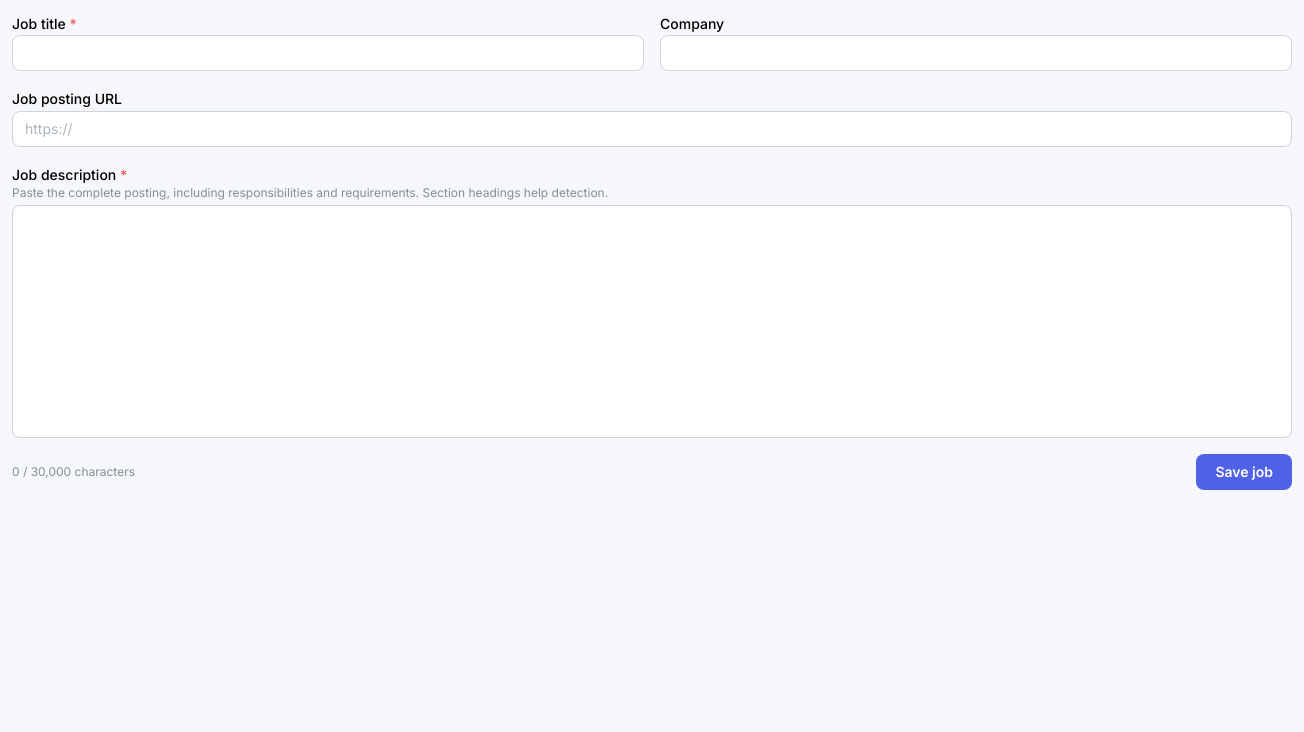
Test: JobForm › rejects a too-short description and invalid URL
The image size is (1304, 732).
Type "Engineer" into the field labelled "Job title *". click: x=328, y=53
box: [12, 35, 644, 71]
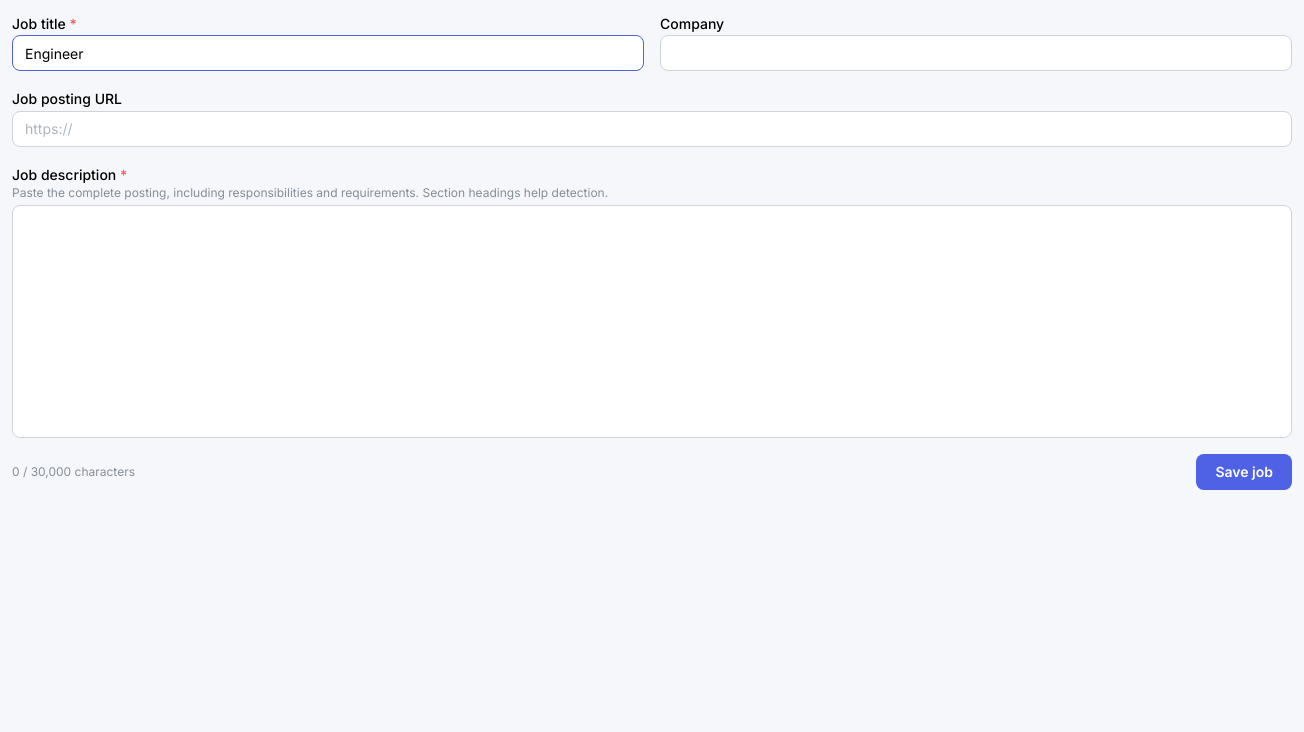
Type "example" into the field labelled "Job posting URL". click: x=652, y=128
box: [12, 110, 1292, 146]
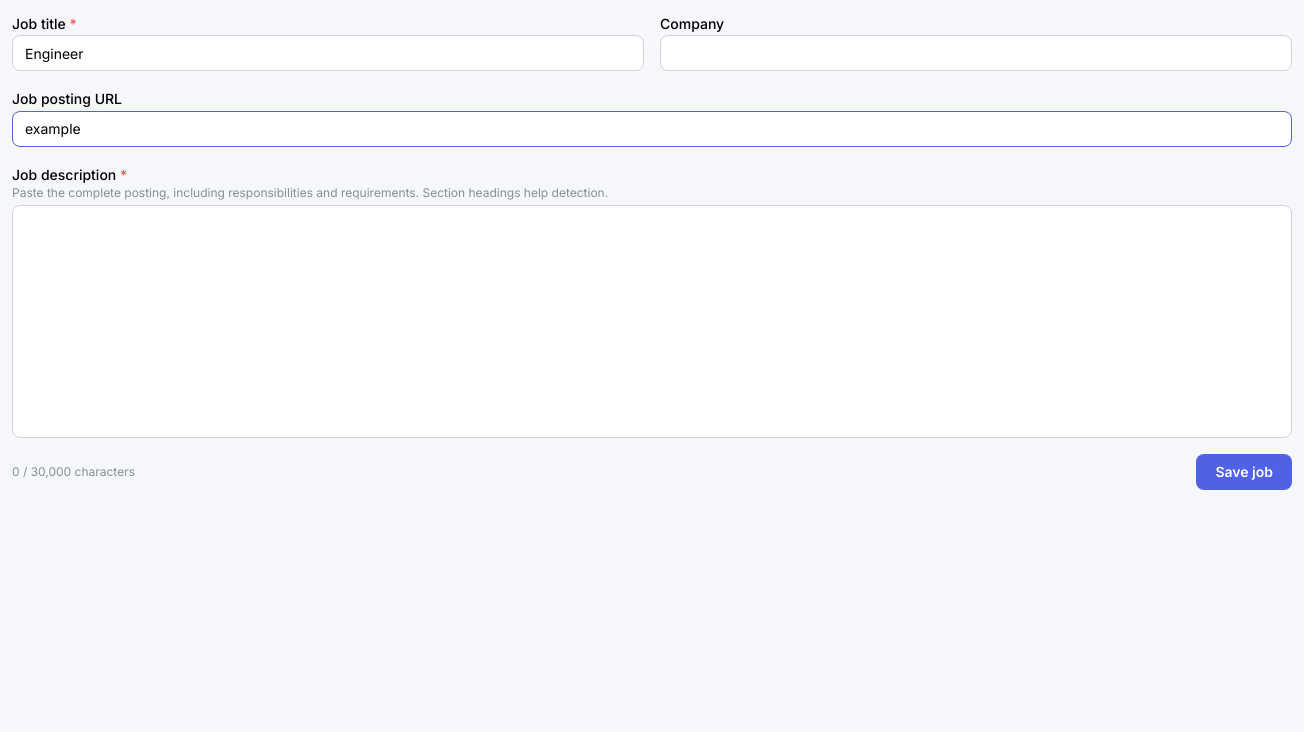
Type "Too short" into the text box labelled "Job description *". click: x=652, y=322
box: [12, 205, 1292, 438]
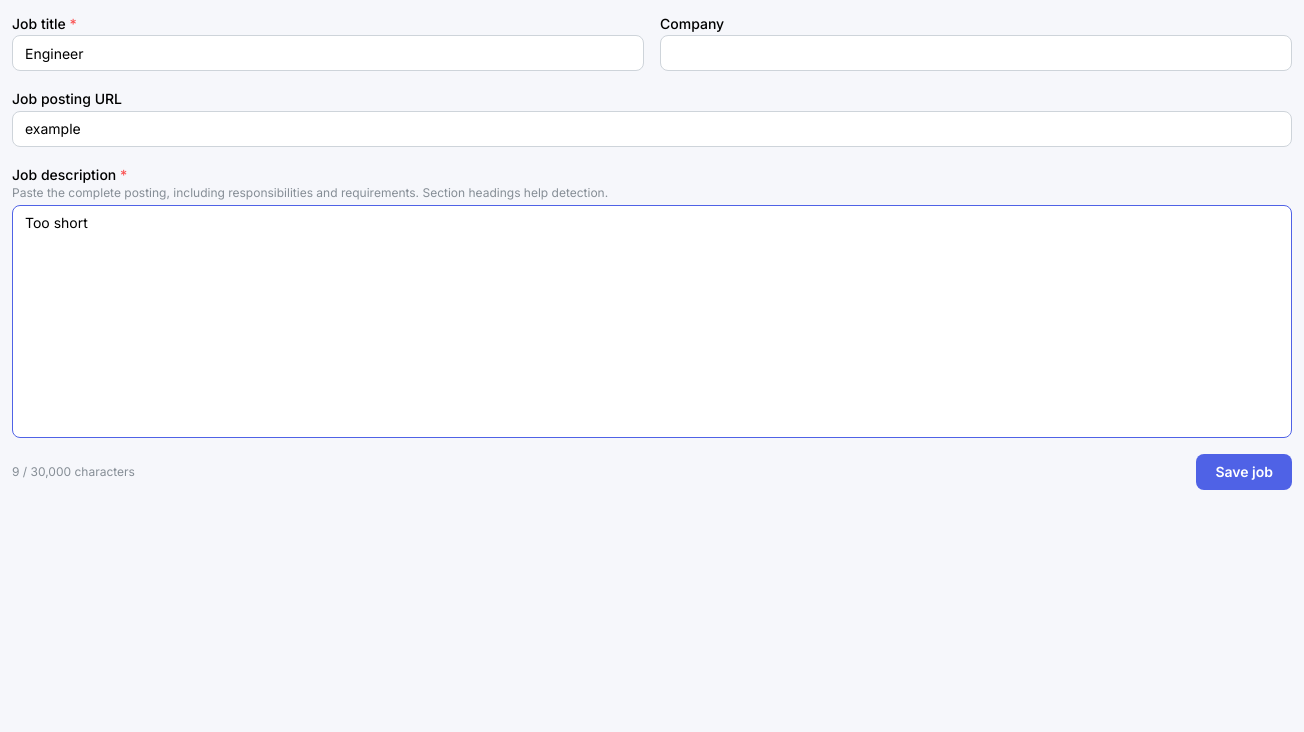
Click the button "Save job". click: x=1244, y=472
box: [1196, 454, 1292, 490]
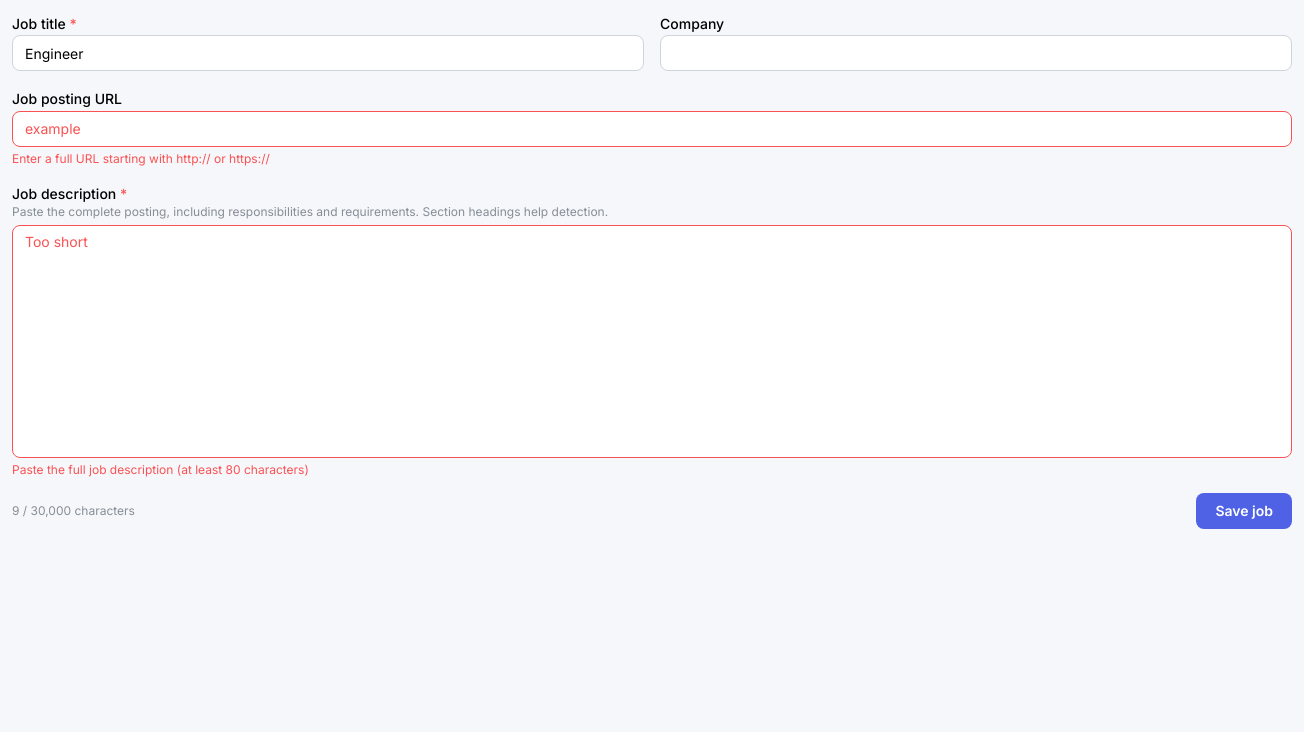
Result: the text "Paste the full job description (at least 80 characters)" is shown at [12, 462, 309, 476]
Result: the text "Enter a full URL starting with http:// or https://" is shown at [12, 150, 270, 166]
